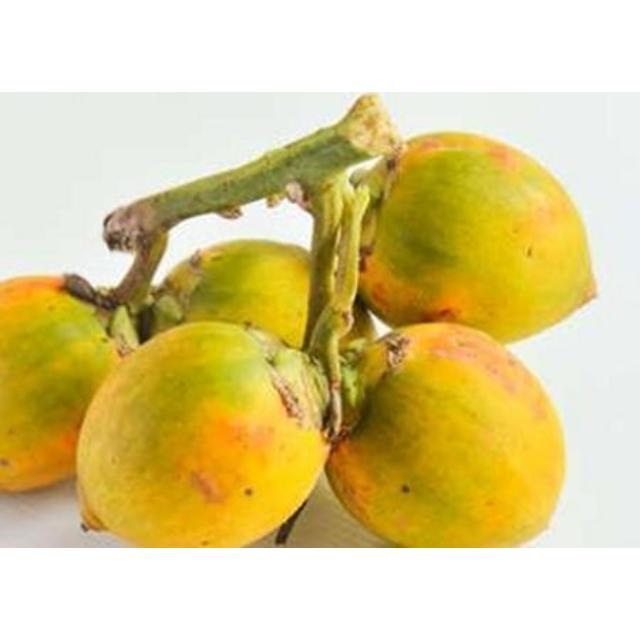good: (75, 321, 374, 547), (323, 322, 569, 547), (358, 132, 599, 345), (0, 277, 118, 496), (152, 240, 311, 348)
